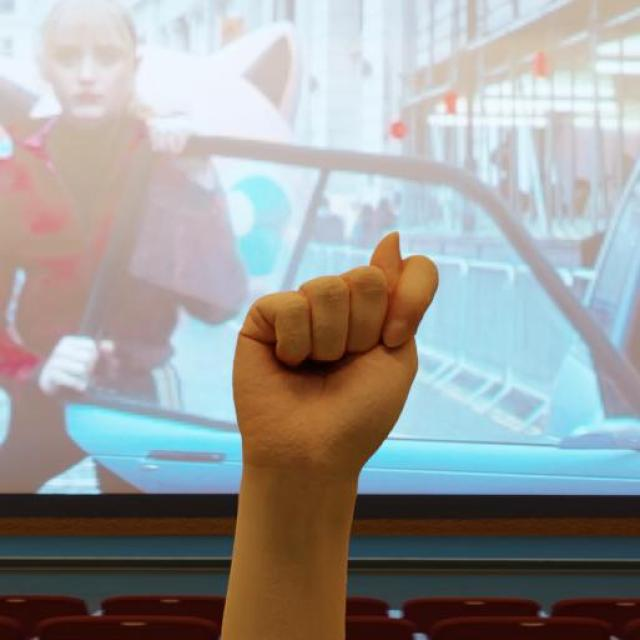T: (227, 228, 448, 480)
